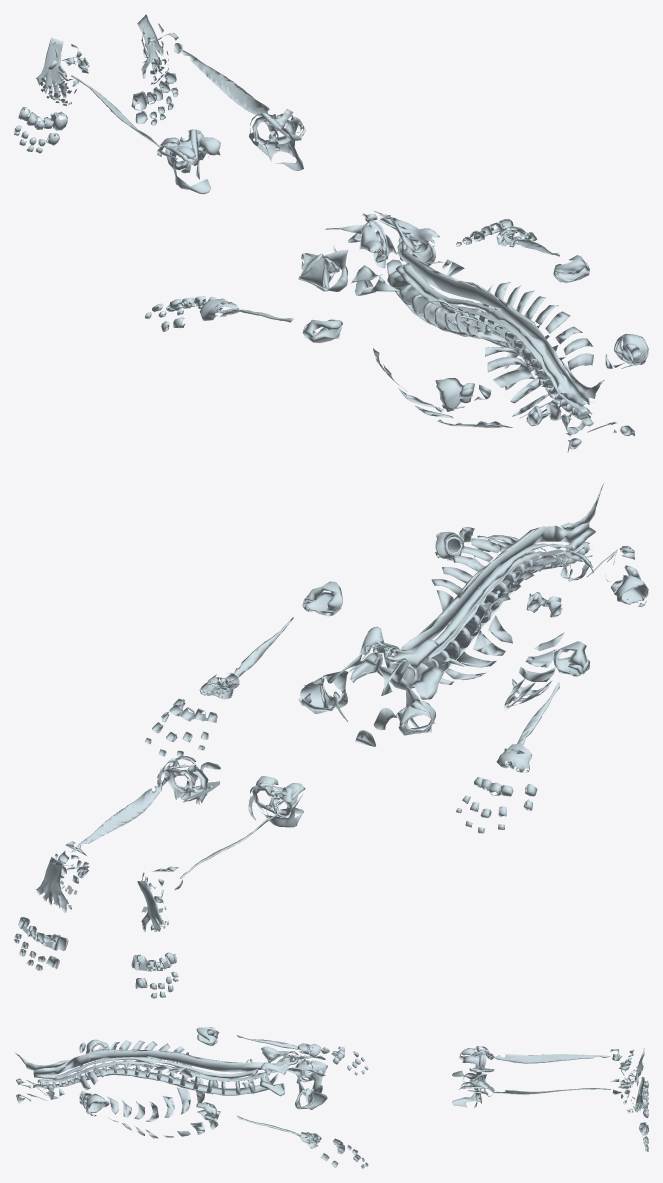
Rendered from overview__joints.e9adf9d64d.glb.
3 renders of one model, top to bottom at view 1: azimuth 30°, elevation 25°; view 2: azimuth 150°, elevation 25°; view 3: azimuth 270°, elevation 25°, orthographic. The views are drawn at different scales.
Visible parts, largest first — view 1: Z01003, Z00978, Z01207, Z00979, Z00984, Z01774, Z00173, Z01236, Z01784, Z01785, Z00172, Z00643 (+6 smaller); view 2: Z01003, Z00978, Z00642, Z01207, Z00643, Z00984, Z01774, Z01225, Z00164, Z00979, Z00173, Z01785 (+1 smaller); view 3: Z01003, Z00130, Z00643, Z01207, Z01774, Z00985, Z00978, Z00979, Z00642, Z01784, Z00173, Z00172 (+8 smaller).
Boxes of the visible parts, bbox=[...] form: Z01003: bbox=[401, 248, 589, 404]; Z00978: bbox=[480, 282, 593, 369]; Z01207: bbox=[402, 263, 594, 406]; Z00979: bbox=[431, 298, 534, 387]; Z00984: bbox=[180, 49, 276, 117]; Z01774: bbox=[395, 264, 589, 413]; Z00173: bbox=[165, 129, 220, 194]; Z01236: bbox=[36, 37, 68, 97]; Z01784: bbox=[385, 215, 439, 252]; Z01785: bbox=[359, 219, 388, 262]; Z00172: bbox=[250, 114, 303, 170]; Z00643: bbox=[373, 348, 512, 428]; Z01003: bbox=[401, 522, 589, 649]; Z00978: bbox=[431, 535, 518, 610]; Z00642: bbox=[373, 615, 512, 684]; Z01207: bbox=[434, 527, 595, 649]; Z00643: bbox=[504, 632, 564, 710]; Z00984: bbox=[71, 785, 161, 852]; Z01774: bbox=[396, 542, 589, 666]; Z01225: bbox=[35, 856, 68, 912]; Z00164: bbox=[305, 581, 342, 614]; Z00979: bbox=[480, 551, 593, 622]; Z00173: bbox=[250, 776, 303, 827]; Z01785: bbox=[385, 640, 439, 670]; Z01003: bbox=[33, 1050, 264, 1074]; Z00130: bbox=[32, 1068, 278, 1095]; Z00643: bbox=[107, 1071, 218, 1121]; Z01207: bbox=[34, 1057, 257, 1079]; Z01774: bbox=[37, 1060, 266, 1082]; Z00985: bbox=[493, 1054, 610, 1063]; Z00978: bbox=[79, 1063, 192, 1090]; Z00979: bbox=[79, 1040, 191, 1066]; Z00642: bbox=[109, 1118, 218, 1138]; Z01784: bbox=[260, 1055, 298, 1075]; Z00173: bbox=[452, 1048, 486, 1079]; Z00172: bbox=[452, 1073, 486, 1107].
Size of the model in its own units: 641 by 223 by 1528.
